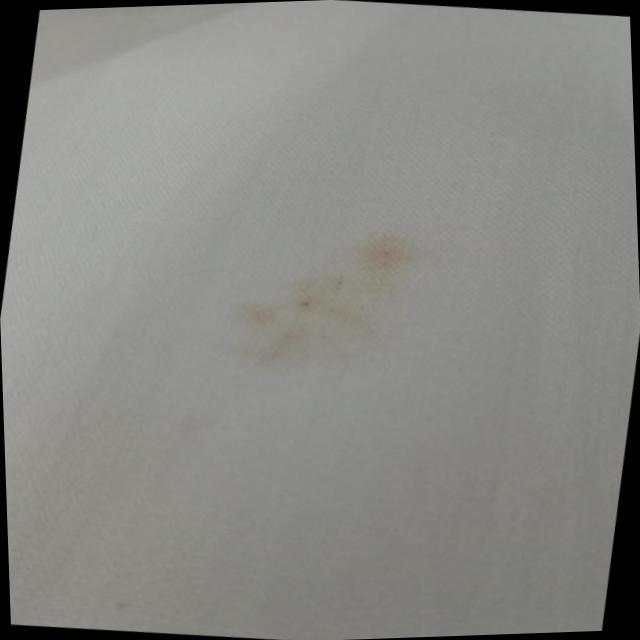stain: (197, 200, 451, 405)
